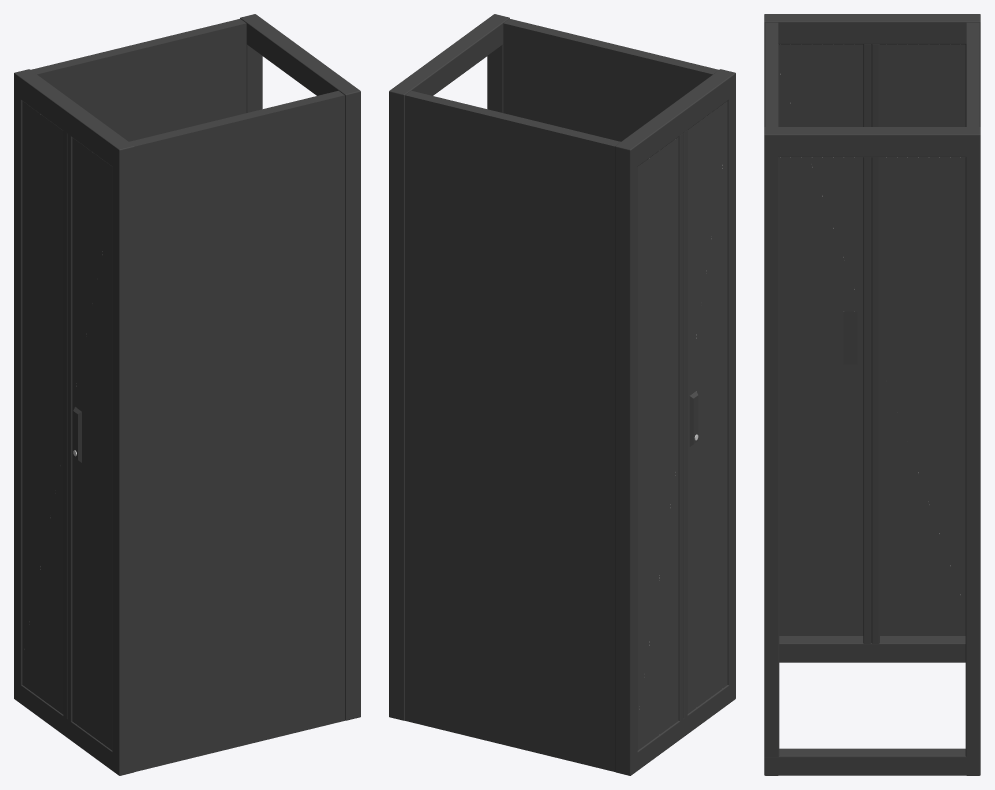
Rendered from jigui.FBX.
3 renders of one model, left to right at view 1: azimuth 30°, elevation 25°; view 2: azimuth 150°, elevation 25°; view 3: azimuth 270°, elevation 25°, orthographic. The views are drawn at different scales.
Visible parts, largest first — view 1: Rectangle8201; view 2: Rectangle8201; view 3: Rectangle8201.
Boxes of the visible parts, box(x1,y1,x2,y2) form: Rectangle8201: box(14, 14, 360, 775); Rectangle8201: box(389, 14, 735, 775); Rectangle8201: box(764, 14, 980, 775).
Size of the model in its own units: 816 by 1997 by 611.
3 materials, 1 textured.
